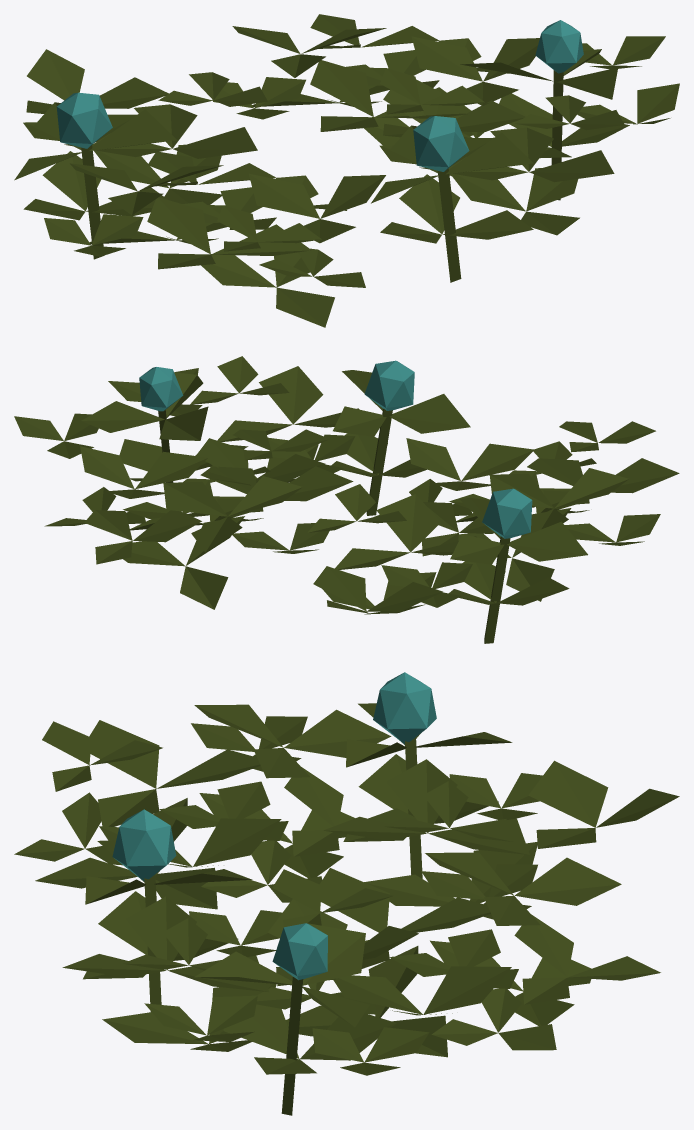
File: SM_Clover_Group_A_Flowering.fbx
3 renders of one model, top to bottom at view 1: azimuth 30°, elevation 25°; view 2: azimuth 150°, elevation 25°; view 3: azimuth 270°, elevation 25°, orthographic. The views are drawn at different scales.
Parts seen in each view (by area): view 1: clover-group-a-flowering; view 2: clover-group-a-flowering; view 3: clover-group-a-flowering.
Part boxes in pixels (box(x1,y1,x2,y2)): clover-group-a-flowering: box(14, 14, 679, 327); clover-group-a-flowering: box(14, 356, 679, 643); clover-group-a-flowering: box(14, 672, 679, 1115).
Bounding box in the file's own units: 0.895 × 0.2259 × 0.6787.
